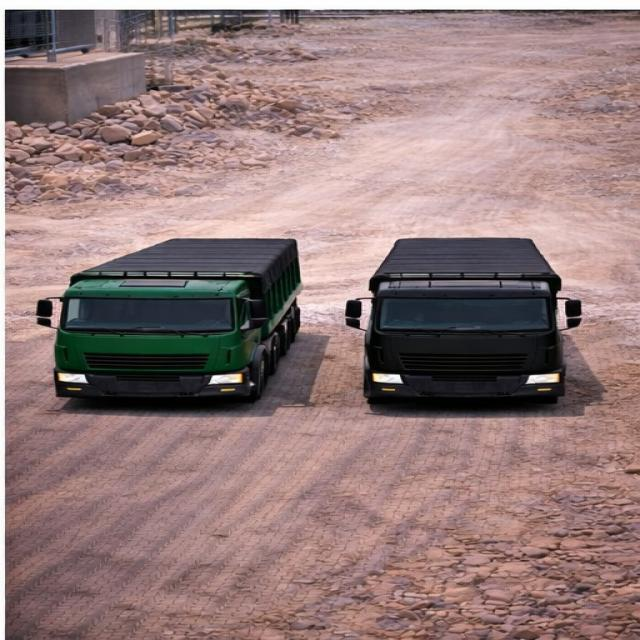trailer: (377, 235, 562, 291), (67, 236, 301, 277)
truck: (341, 226, 587, 414), (37, 230, 307, 398)
